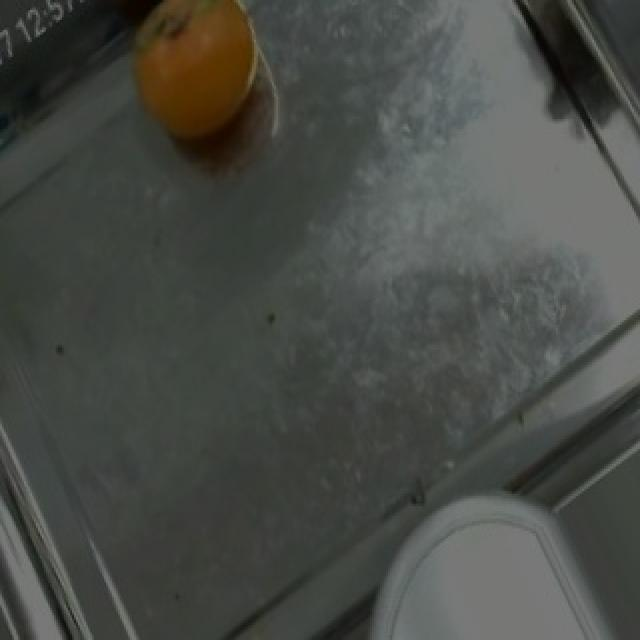Fruit: (370, 503, 604, 640), (110, 0, 284, 164)
